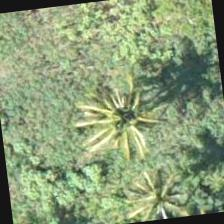Kelapa_Sawit: (74, 60, 174, 160), (93, 146, 193, 223)
